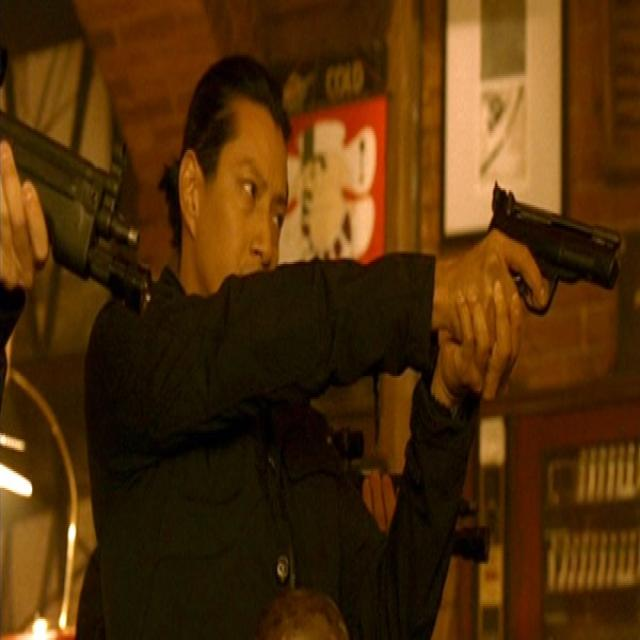weapons: (0, 72, 166, 342), (484, 162, 624, 398)
